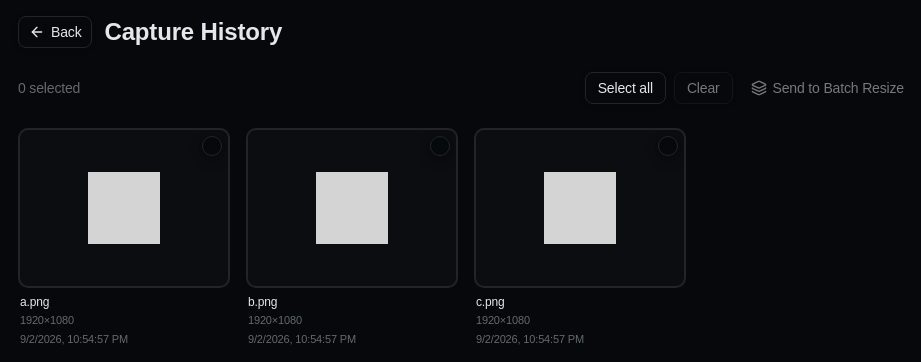
Scenario: CaptureHistoryGallery — multi-select › toggles an individual capture's selection on and off
Click the checkbox named "Select a.png" at (212, 146), box top-left (202, 136), bottom-right (222, 156)
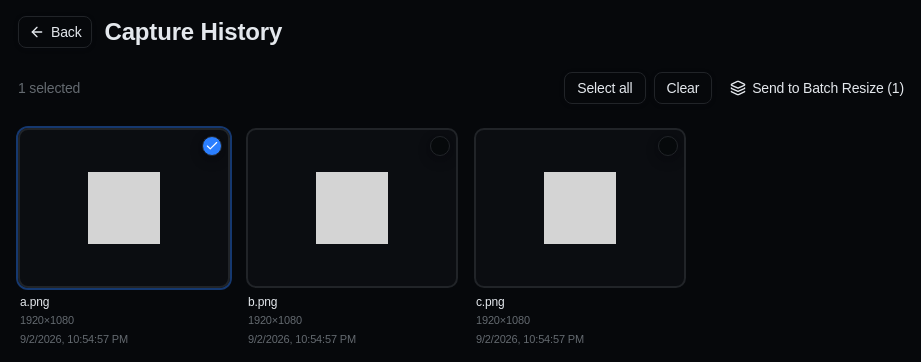
Check: the text with test id "selection-count" reads "1 selected", box top-left (18, 78), bottom-right (80, 98)
Click the checkbox named "Select a.png" at (212, 146), box top-left (202, 136), bottom-right (222, 156)
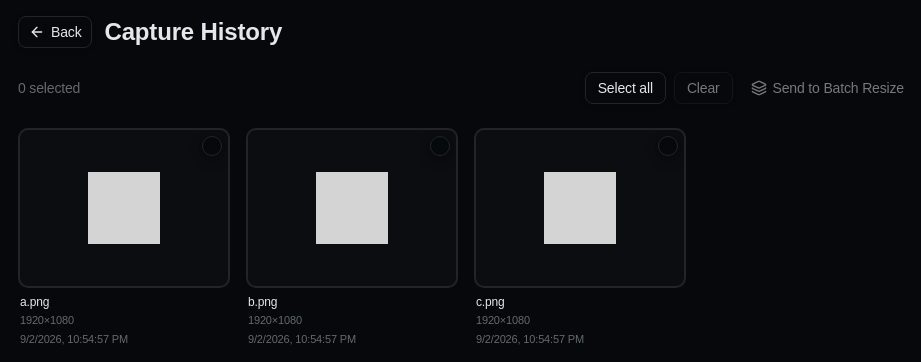
Check: the text with test id "selection-count" reads "0 selected", box top-left (18, 78), bottom-right (80, 98)
